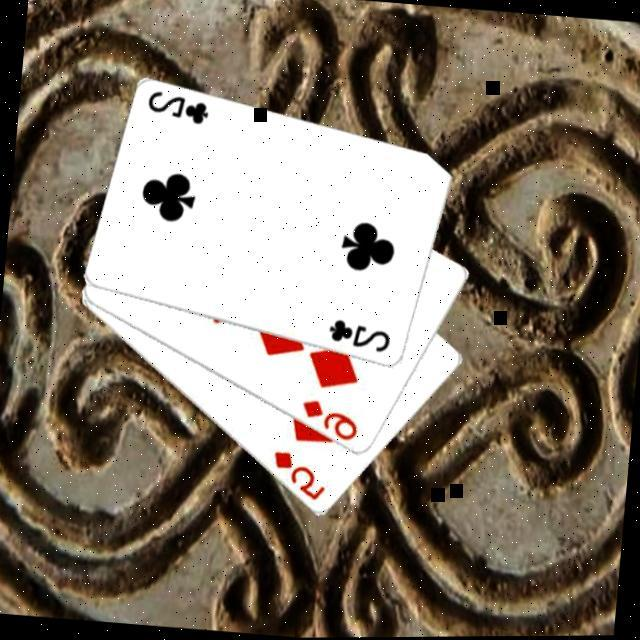2C: (325, 317, 396, 358), (143, 90, 214, 130)
5D: (267, 450, 332, 507)
9D: (297, 398, 363, 447)
